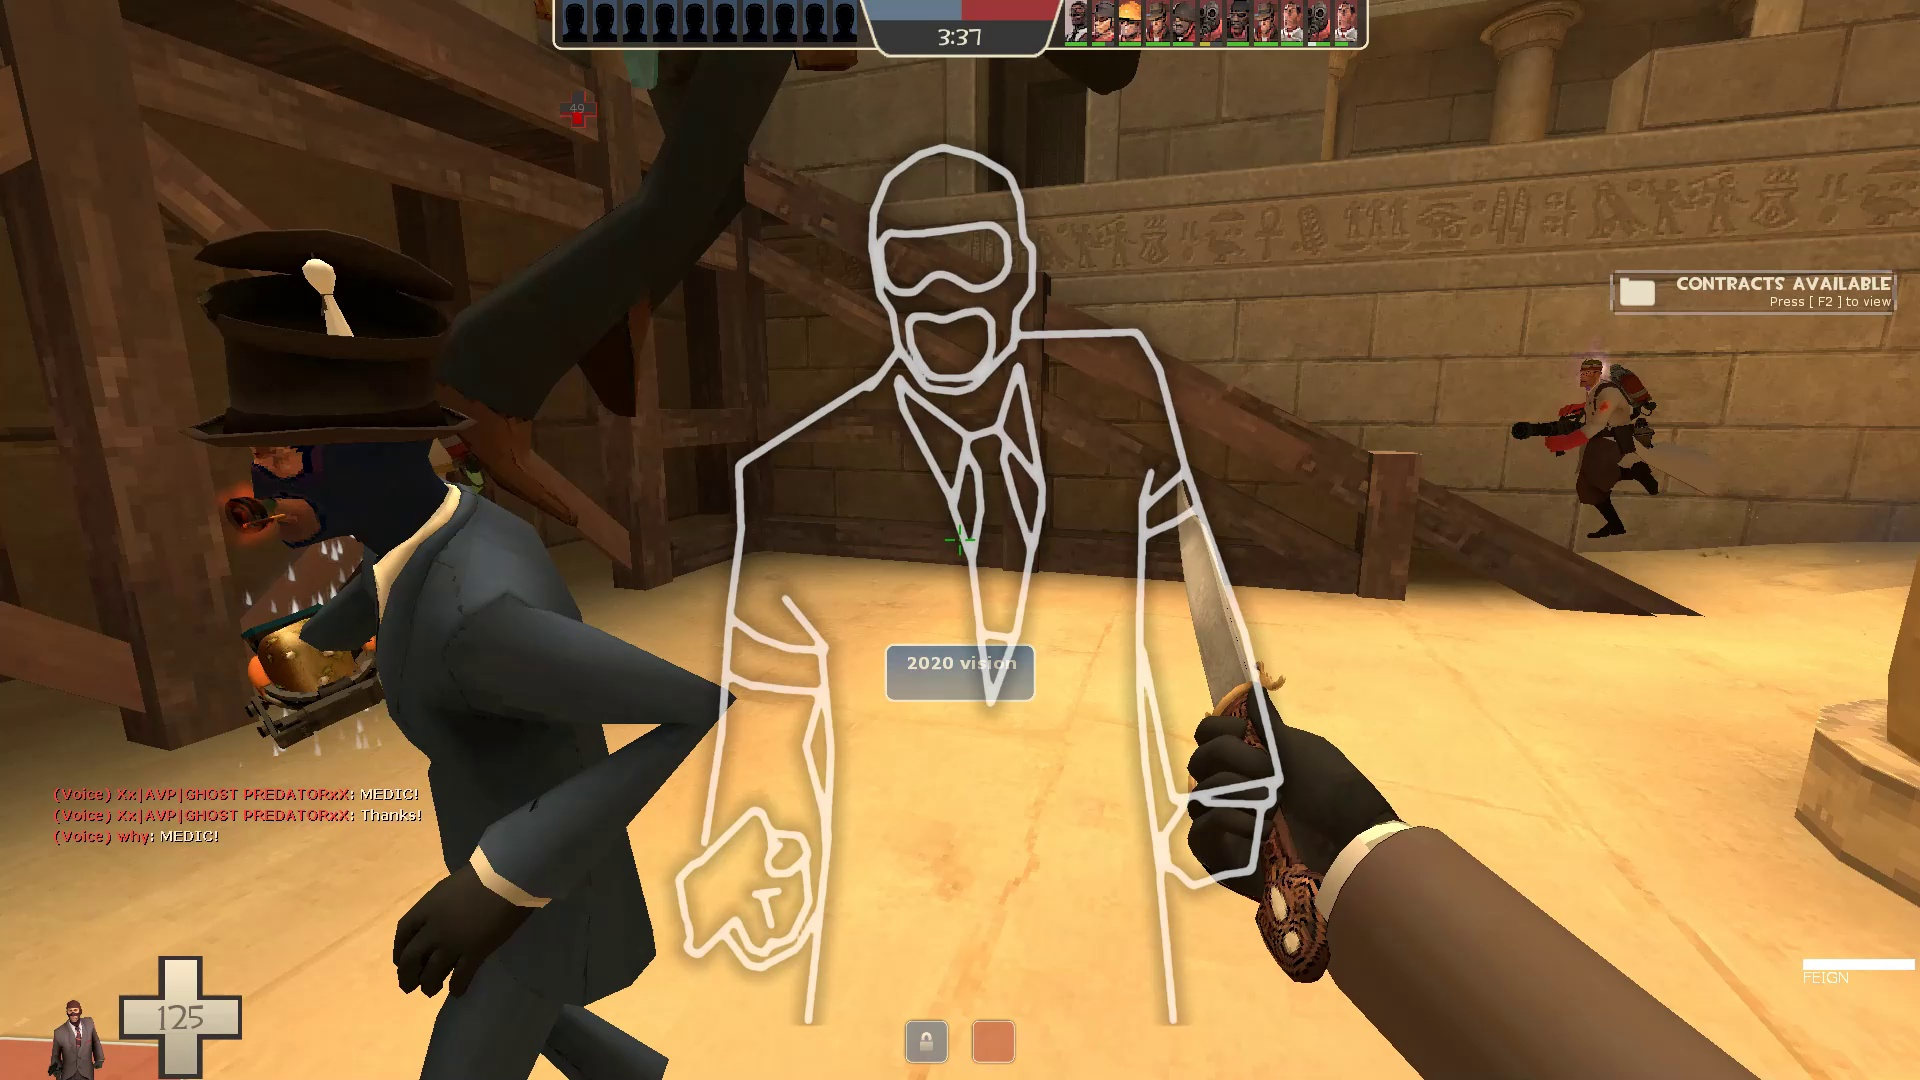blu_sniper: (413, 1, 1155, 527)
blu_spy: (156, 210, 766, 1080)
red_medic: (1506, 345, 1726, 553)
